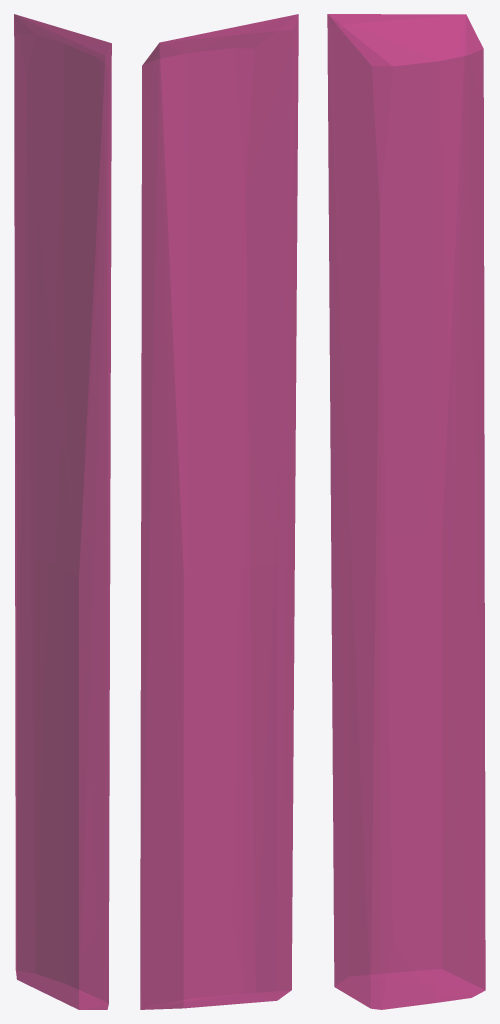
The picture shows the model from 3 angles, left to right: view 1: azimuth 90°, elevation 25°; view 2: azimuth 150°, elevation 25°; view 3: azimuth 330°, elevation 25°; orthographic projection.
Parts seen in each view (by area): view 1: Shape_IndexedFaceSet.076_Shape_IndexedFaceSet.10479; view 2: Shape_IndexedFaceSet.076_Shape_IndexedFaceSet.10479; view 3: Shape_IndexedFaceSet.076_Shape_IndexedFaceSet.10479.
Part boxes in pixels (x1=…): Shape_IndexedFaceSet.076_Shape_IndexedFaceSet.10479: x1=14, y1=14, x2=111, y2=1009; Shape_IndexedFaceSet.076_Shape_IndexedFaceSet.10479: x1=140, y1=14, x2=298, y2=1009; Shape_IndexedFaceSet.076_Shape_IndexedFaceSet.10479: x1=327, y1=14, x2=485, y2=1009.
Bounding box in the file's own units: 0.1349 × 1.16 × 0.1043.
